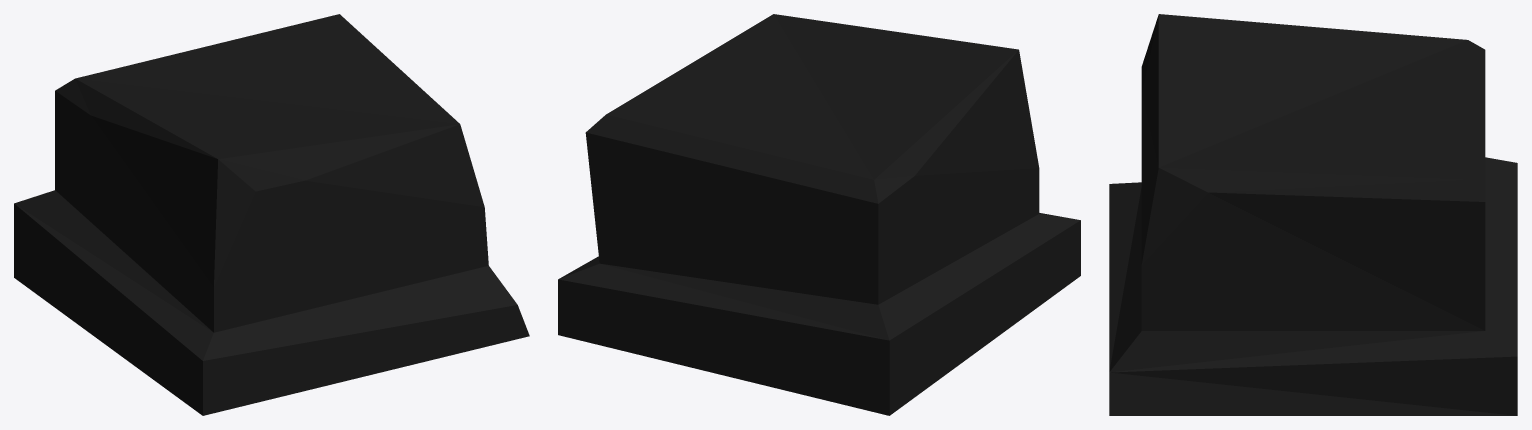
The model's file is Pillar_Square_Bottom.fbx.
3 renders of one model, left to right at view 1: azimuth 30°, elevation 25°; view 2: azimuth 150°, elevation 25°; view 3: azimuth 270°, elevation 25°, orthographic. The views are drawn at different scales.
Visible parts, largest first — view 1: Pillar_Square_Bottom; view 2: Pillar_Square_Bottom; view 3: Pillar_Square_Bottom.
Boxes of the visible parts, left/top/right/bottom form: Pillar_Square_Bottom: left=14, top=14, right=529, bottom=415; Pillar_Square_Bottom: left=558, top=14, right=1080, bottom=415; Pillar_Square_Bottom: left=1109, top=14, right=1517, bottom=415.
Size of the model in its own units: 200 by 135 by 200.
